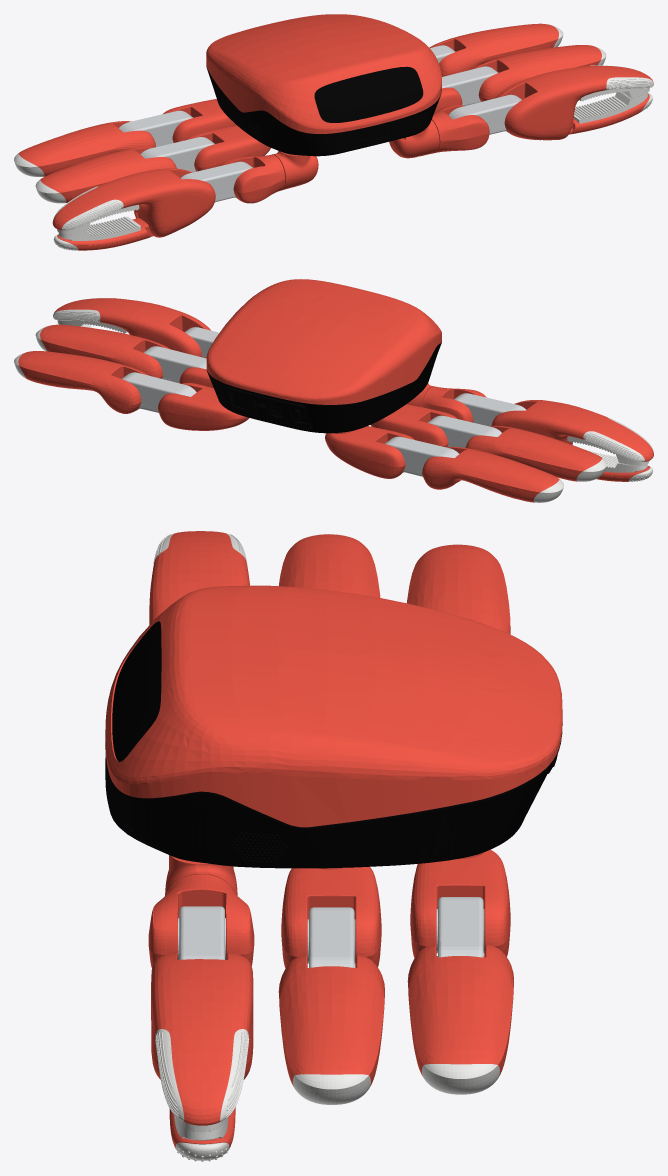
The model's file is jumper.glb.
3 renders of one model, top to bottom at view 1: azimuth 30°, elevation 25°; view 2: azimuth 150°, elevation 25°; view 3: azimuth 270°, elevation 25°, orthographic. The views are drawn at different scales.
Visible parts, largest first — view 1: upper_shell_link_visual, LF_palm_link_visual, RF_palm_link_visual, base_link_visual, display_module_link_visual, LR_calf_link_visual, RR_calf_link_visual, RM_calf_link_visual, LM_calf_link_visual, LM_hip_link_visual, LF_upper_arm_link_visual, RF_upper_arm_link_visual (+19 smaller); view 2: upper_shell_link_visual, base_link_visual, RR_calf_link_visual, LR_calf_link_visual, LF_palm_link_visual, RF_palm_link_visual, LM_calf_link_visual, RM_calf_link_visual, LR_hip_link_visual, RR_hip_link_visual, LM_hip_link_visual, RR_thigh_link_visual (+14 smaller); view 3: upper_shell_link_visual, base_link_visual, RF_palm_link_visual, RM_calf_link_visual, RR_calf_link_visual, RM_hip_link_visual, LR_calf_link_visual, RR_hip_link_visual, LF_palm_link_visual, RF_upper_arm_link_visual, LM_calf_link_visual, display_module_link_visual (+8 smaller).
Boxes of the visible parts, x1,y1,x2,y2 form: upper_shell_link_visual: [206, 14, 441, 133]; LF_palm_link_visual: [52, 168, 215, 237]; RF_palm_link_visual: [495, 66, 653, 140]; base_link_visual: [206, 66, 441, 156]; display_module_link_visual: [314, 66, 422, 122]; LR_calf_link_visual: [18, 121, 155, 176]; RR_calf_link_visual: [429, 23, 558, 76]; RM_calf_link_visual: [471, 45, 601, 101]; LM_calf_link_visual: [40, 147, 176, 202]; LM_hip_link_visual: [184, 125, 270, 171]; LF_upper_arm_link_visual: [220, 154, 285, 203]; RF_upper_arm_link_visual: [431, 104, 489, 152]; upper_shell_link_visual: [206, 279, 441, 404]; base_link_visual: [206, 342, 441, 433]; RR_calf_link_visual: [18, 351, 148, 413]; LR_calf_link_visual: [422, 446, 559, 502]; LF_palm_link_visual: [491, 400, 653, 461]; RF_palm_link_visual: [53, 298, 210, 356]; LM_calf_link_visual: [465, 425, 602, 481]; RM_calf_link_visual: [40, 324, 169, 378]; LR_hip_link_visual: [325, 426, 414, 478]; RR_hip_link_visual: [158, 382, 248, 430]; LM_hip_link_visual: [371, 404, 457, 447]; RR_thigh_link_visual: [122, 372, 196, 412]; upper_shell_link_visual: [105, 585, 562, 827]; base_link_visual: [105, 723, 562, 868]; RF_palm_link_visual: [151, 953, 253, 1125]; RM_calf_link_visual: [278, 955, 384, 1086]; RR_calf_link_visual: [407, 944, 513, 1077]; RM_hip_link_visual: [281, 866, 381, 968]; LR_calf_link_visual: [407, 544, 510, 634]; RR_hip_link_visual: [410, 849, 510, 957]; LF_palm_link_visual: [149, 531, 249, 624]; RF_upper_arm_link_visual: [148, 874, 254, 968]; LM_calf_link_visual: [278, 534, 380, 597]; display_module_link_visual: [112, 621, 161, 761].
Size of the model in its own units: 61.86 by 12.31 by 20.55.
